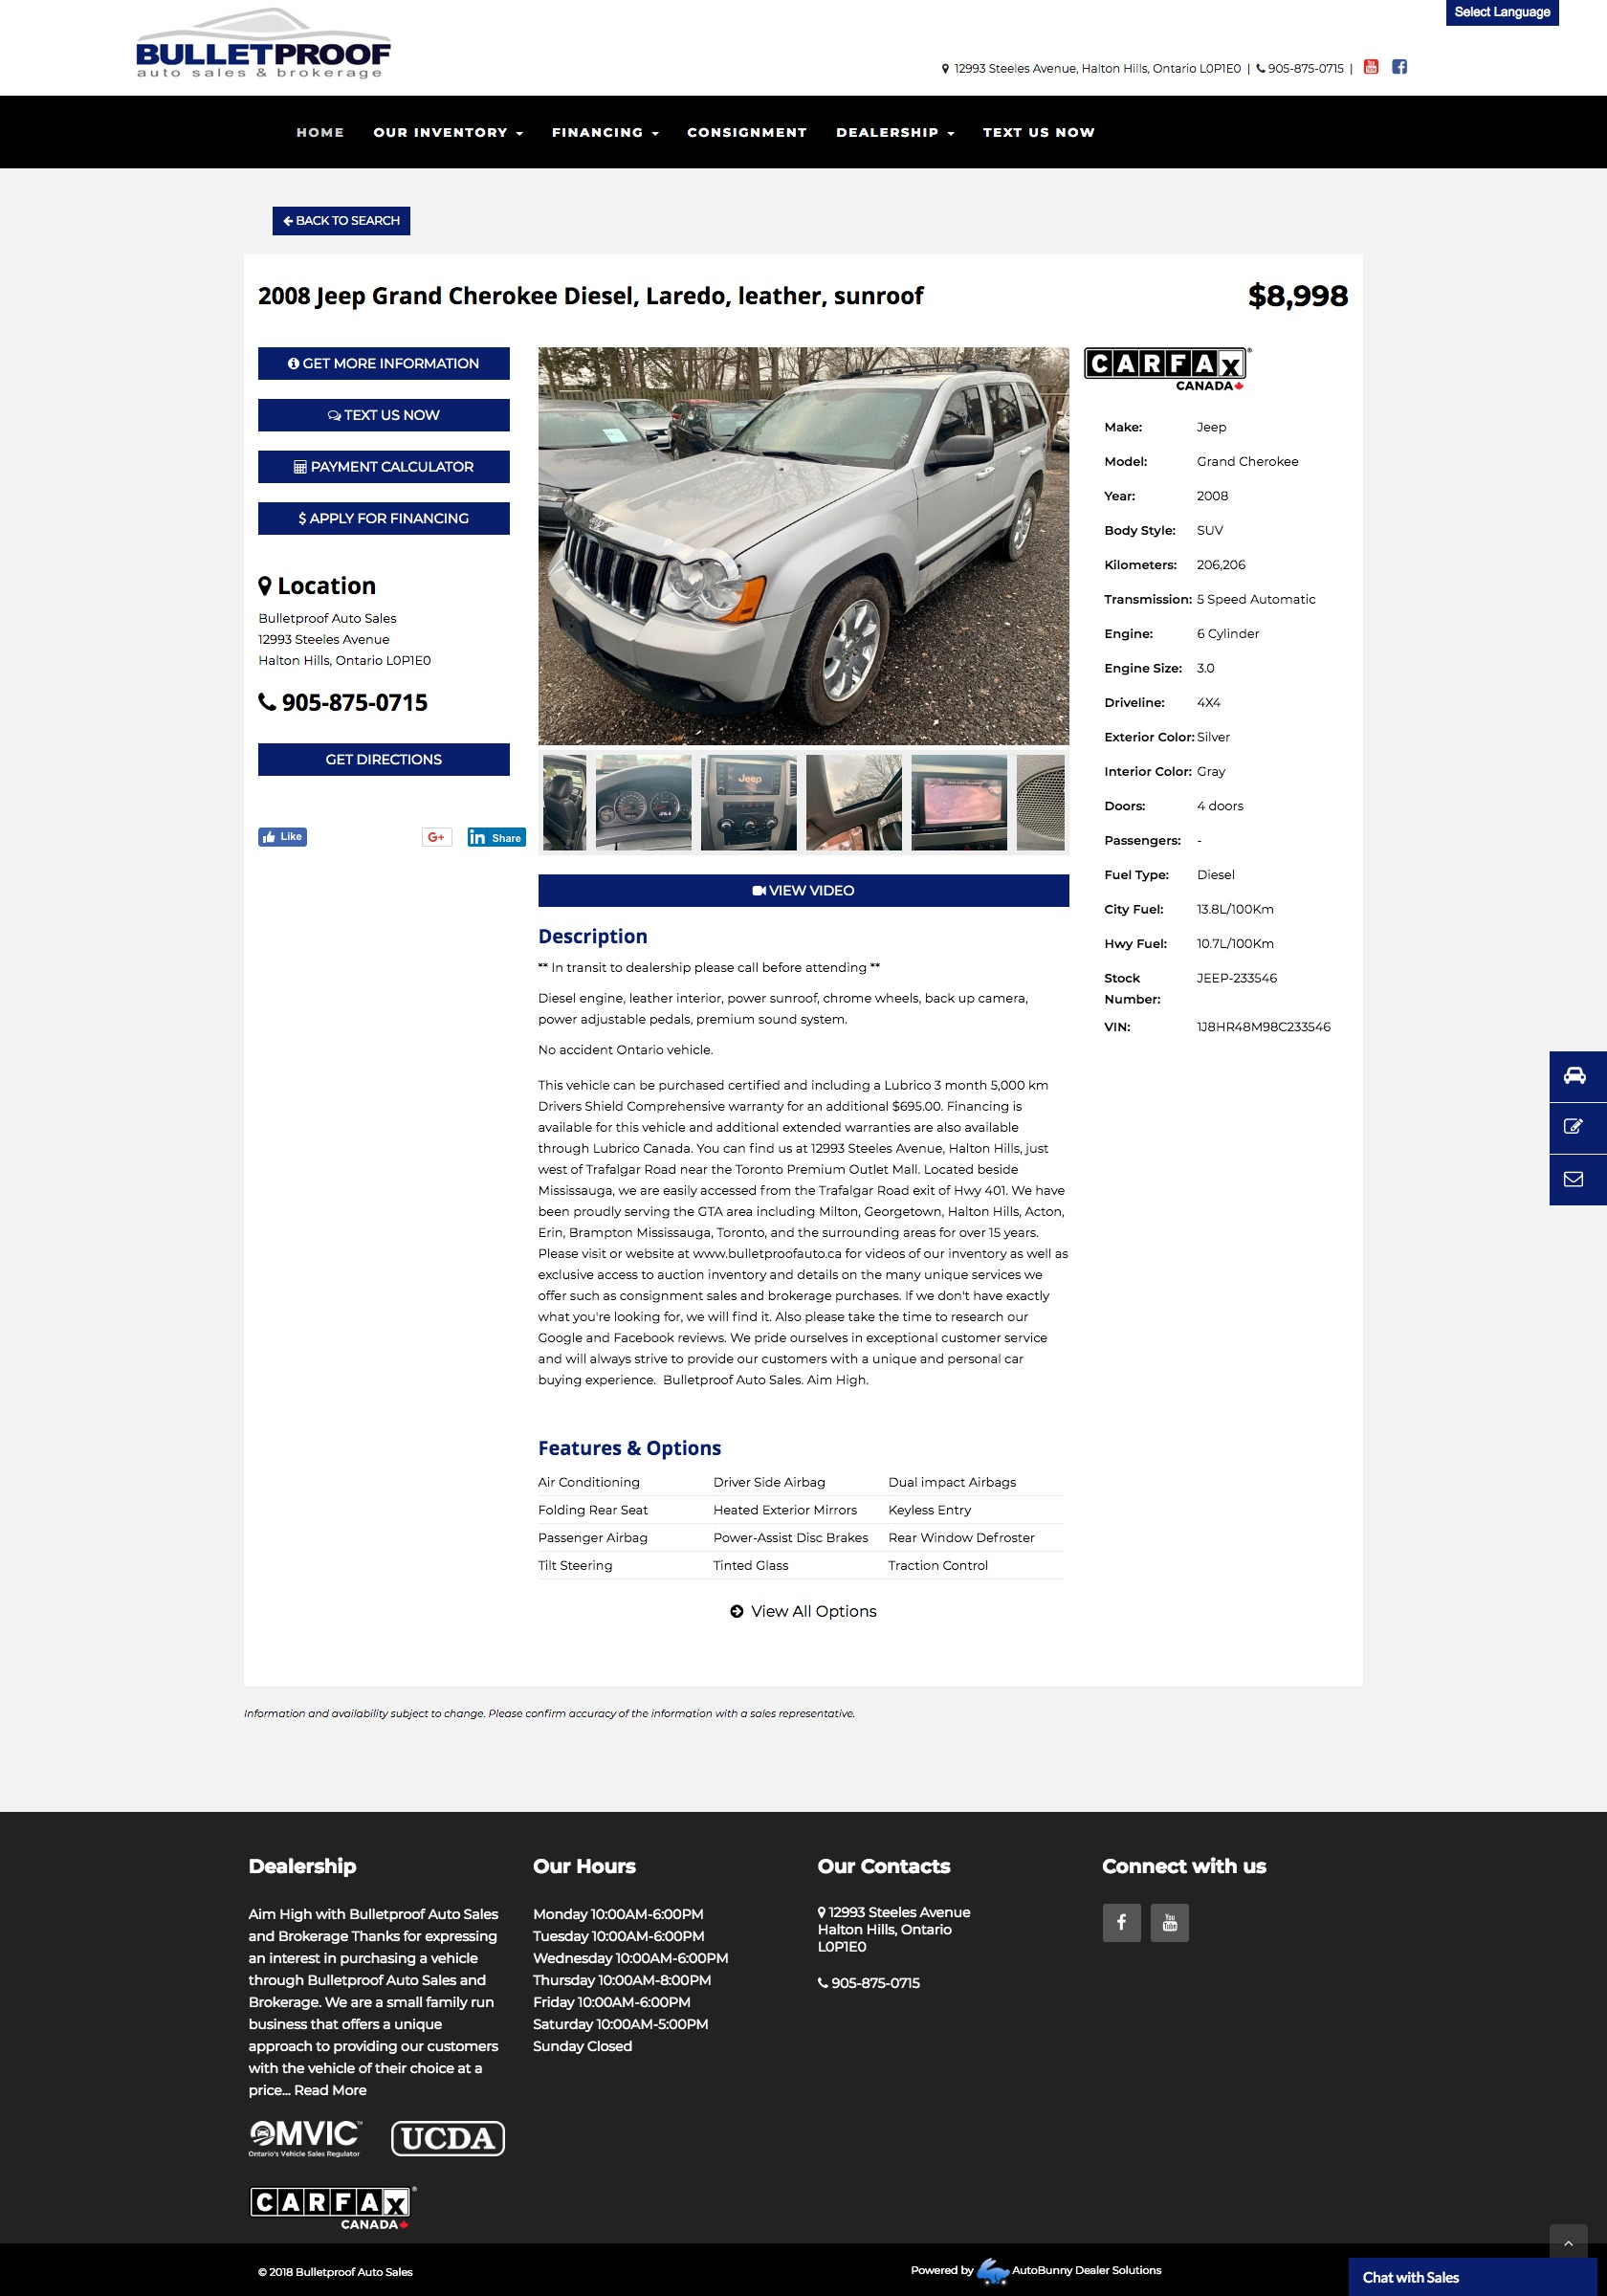car: (1047, 750, 1077, 857)
